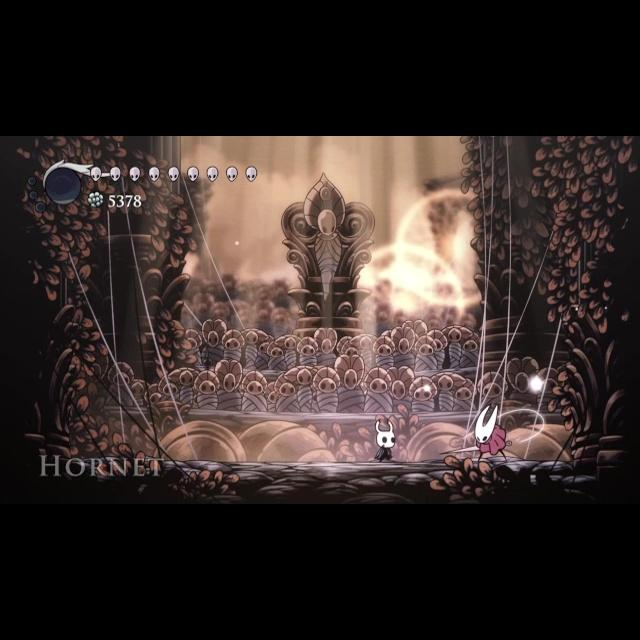Enemy: (444, 398, 534, 464)
Player: (371, 416, 401, 464)
